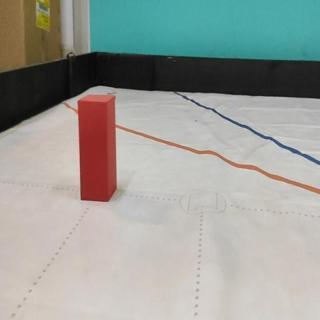redbox: (77, 95, 118, 201)
